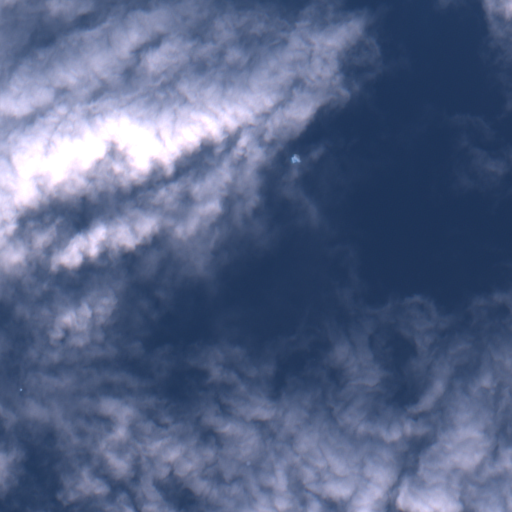Iceberg: (291, 154, 301, 163), (20, 388, 22, 390)
